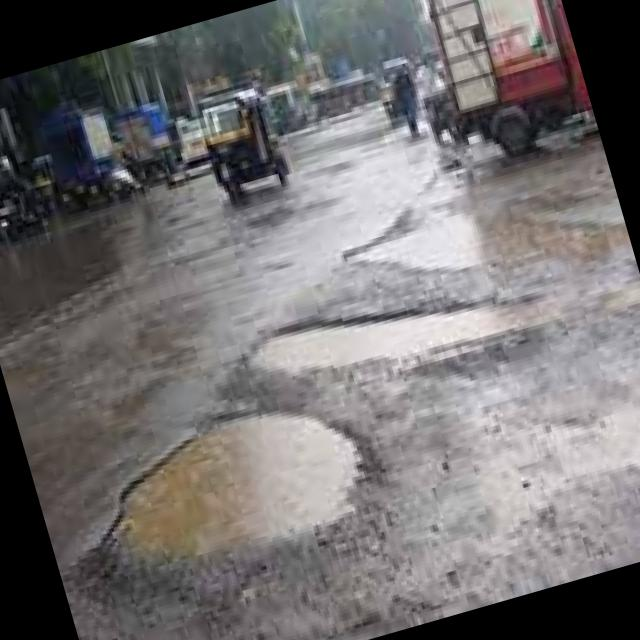Potholes: (74, 372, 384, 596), (236, 243, 566, 420)
